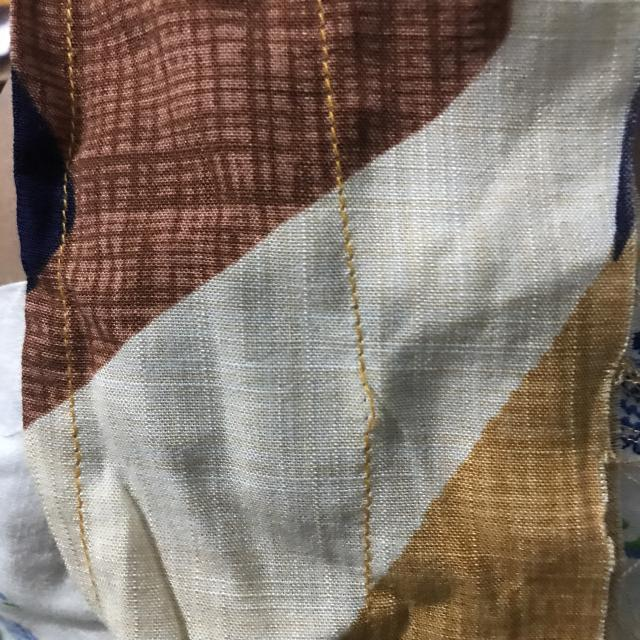good: (328, 214, 377, 315)
skip: (338, 352, 398, 459)
